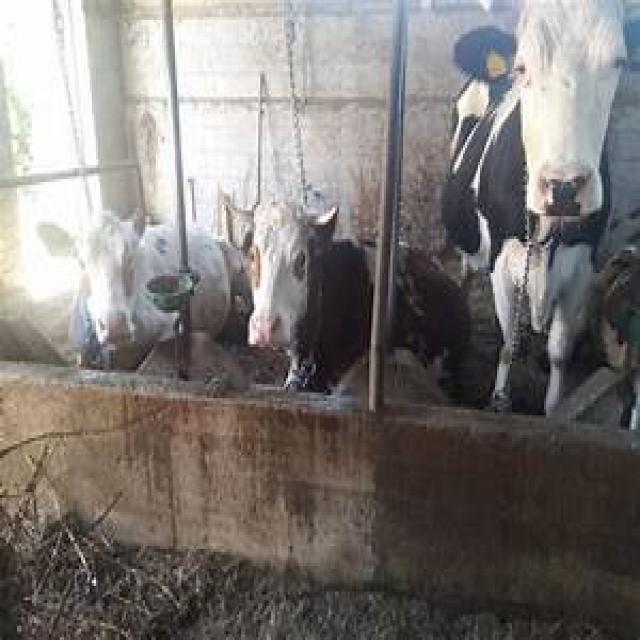cow: (450, 0, 640, 407), (247, 199, 469, 395), (68, 213, 186, 375), (188, 228, 228, 333)
